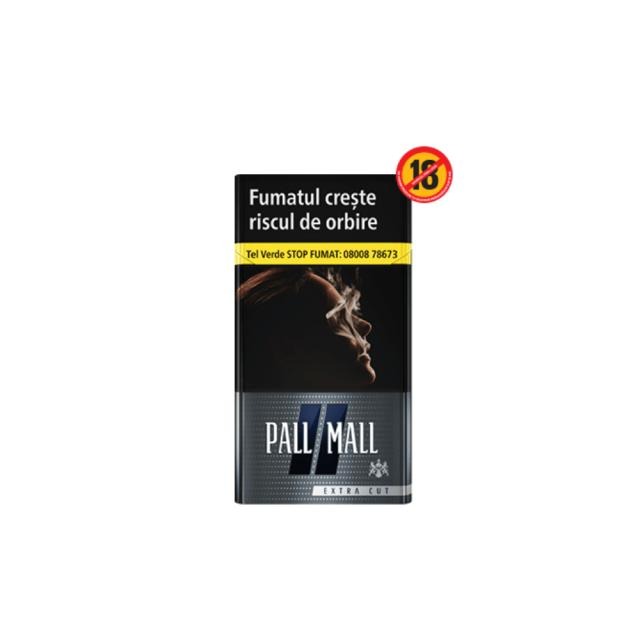pallmall: (223, 168, 419, 510)
